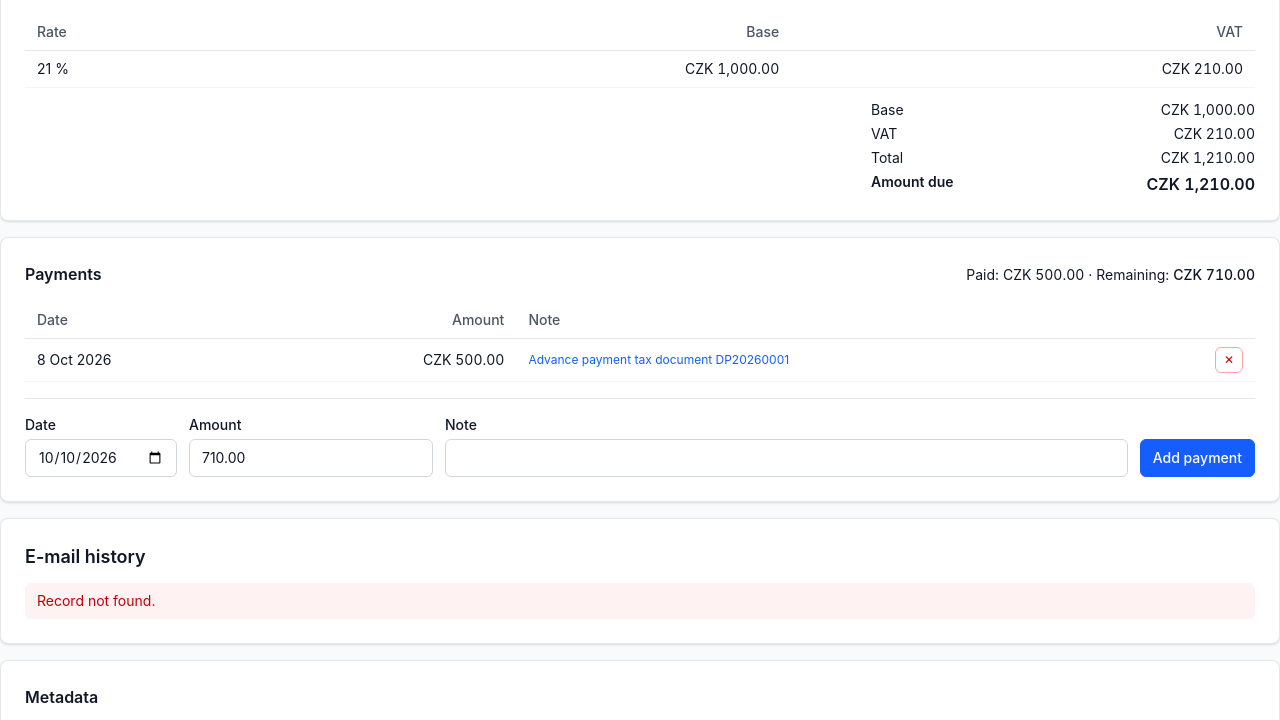
it: detail per document type › deleting a payment warns about its DDPP and explains advance_settled
(page scrolled)
What coordinates should you click on to do the following:
click the button with test id "delete-payment"
I would click on:
 (1229, 360)
Its box is [1215, 347, 1243, 373].
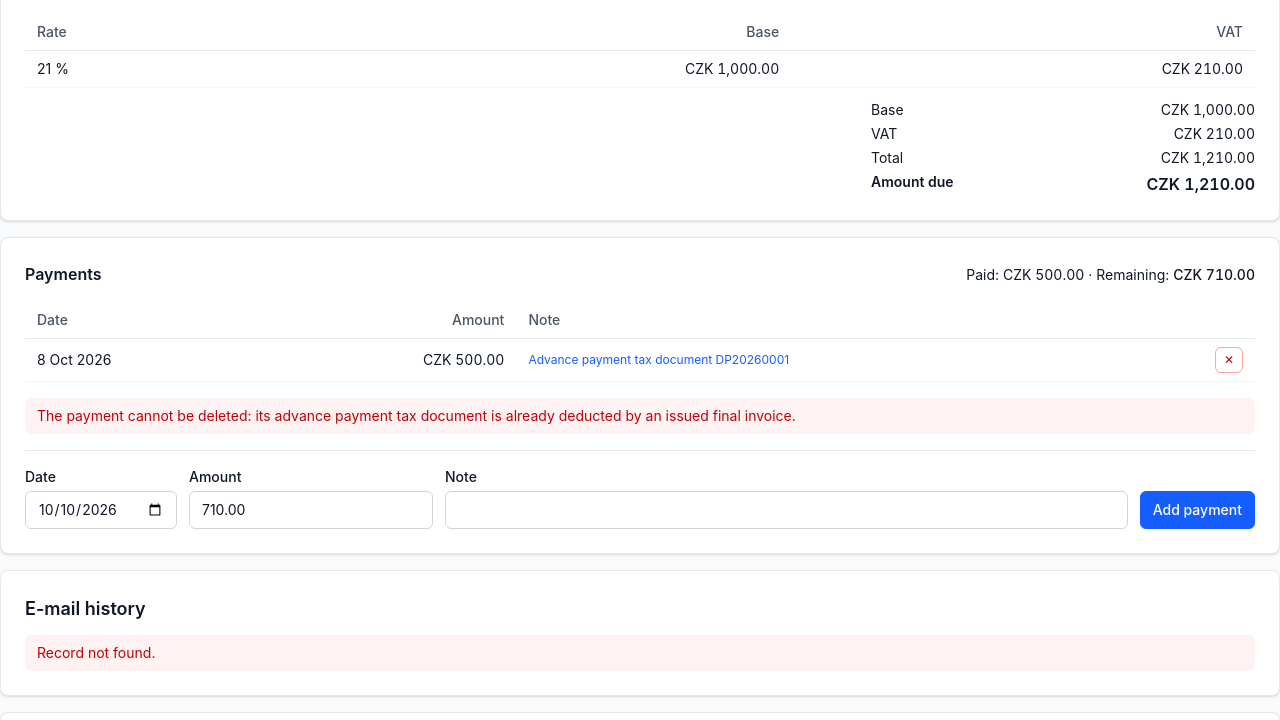
Now the message with test id "payment-error" shows "The payment cannot be deleted: its advance payment tax document is already deducted by an issued final invoice.", box [37, 407, 796, 424]
